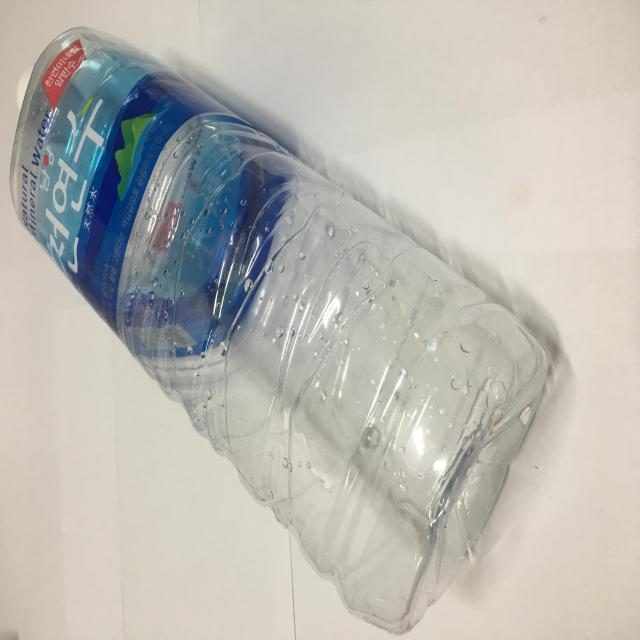bottle: (11, 30, 551, 633)
